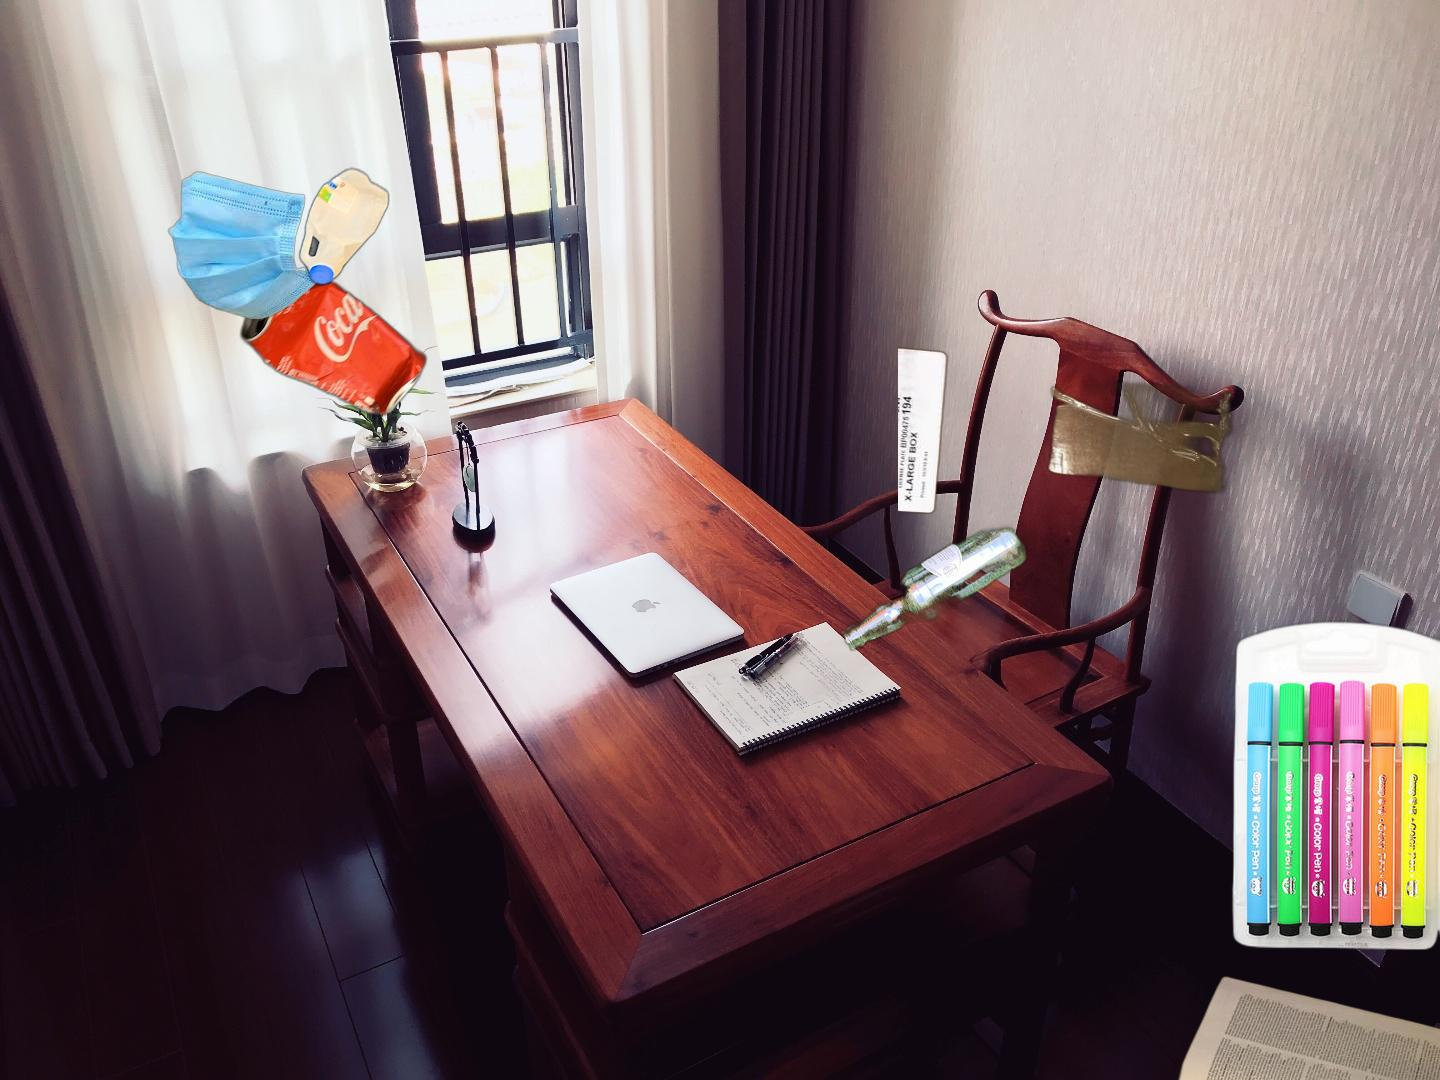glass: (661, 522, 1032, 950)
metal-cans: (237, 268, 431, 422)
paper: (1141, 973, 1440, 1080)
penholder: (1228, 617, 1440, 956)
plastic-bottles: (296, 163, 393, 292)
trash: (166, 169, 328, 322)
trashbox-cardboard: (898, 344, 1239, 616)
